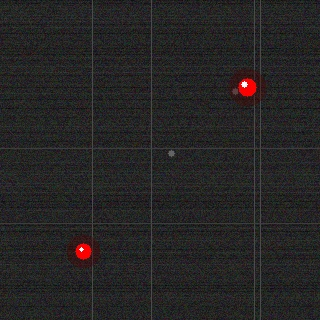red_fault: (236, 76, 258, 98), (73, 241, 93, 261)
